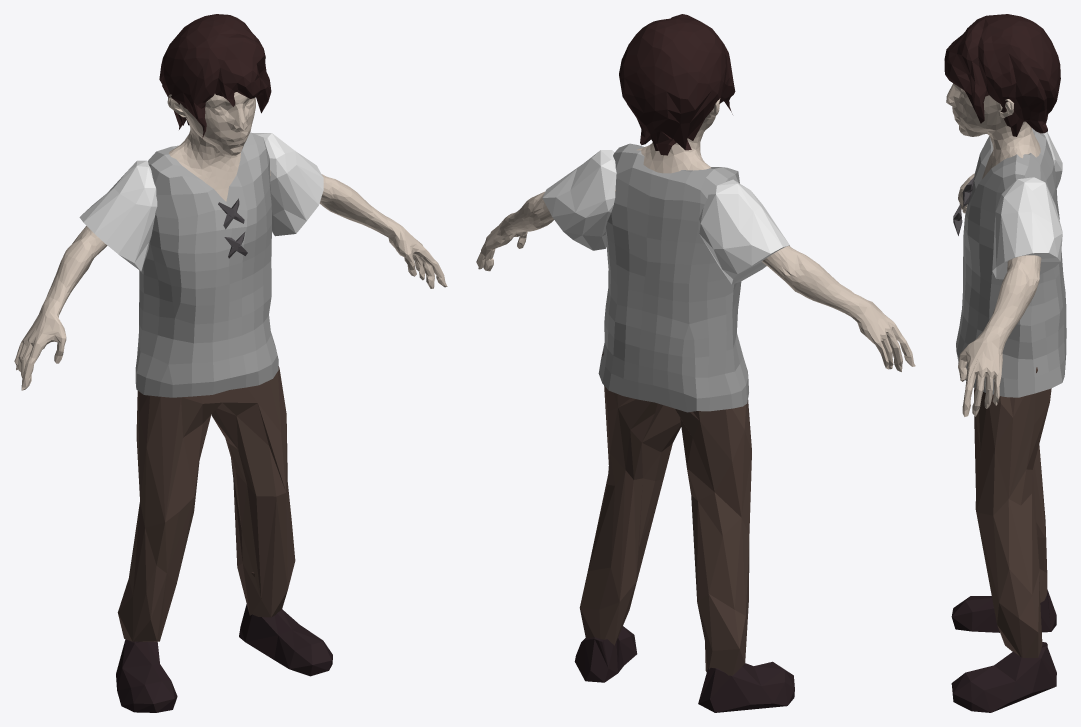
The model's file is Player.fbx.
3 views of the same model, side by side, from view 1: azimuth 30°, elevation 25°; view 2: azimuth 150°, elevation 25°; view 3: azimuth 270°, elevation 25° (orthographic). The views are drawn at different scales.
Visible parts, largest first — view 1: boy2:Group31606, boy2:Group39331, boy2:Group22341, boy2:Group50538, boy2:Group6942, boy2:Group26614; view 2: boy2:Group31606, boy2:Group39331, boy2:Group6942, boy2:Group50538, boy2:Group22341, boy2:Group26614; view 3: boy2:Group39331, boy2:Group31606, boy2:Group6942, boy2:Group22341, boy2:Group26614, boy2:Group50538.
Boxes of the visible parts, x1,y1,x2,y2 form: boy2:Group31606: (135,132,278,397); boy2:Group39331: (117,366,295,641); boy2:Group22341: (14,92,447,390); boy2:Group50538: (79,133,323,271); boy2:Group6942: (159,14,271,138); boy2:Group26614: (116,604,332,712); boy2:Group31606: (598,143,748,412); boy2:Group39331: (579,351,751,675); boy2:Group6942: (619,14,735,155); boy2:Group50538: (542,150,789,284); boy2:Group22341: (476,98,915,371); boy2:Group26614: (574,626,794,712); boy2:Group39331: (974,367,1051,657); boy2:Group31606: (956,128,1066,397); boy2:Group6942: (944,14,1060,136); boy2:Group22341: (946,83,1041,416); boy2:Group26614: (951,589,1056,712); boy2:Group50538: (992,132,1062,279).
Size of the model in its own units: 5.27 by 7.74 by 1.33.
